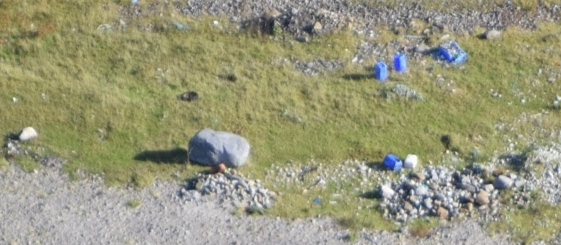scattered_barrel: (360, 29, 480, 174)
white_in_green: (162, 68, 216, 117)
